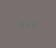five: (25, 19, 30, 28)
zero: (18, 19, 23, 27), (31, 20, 36, 28)
